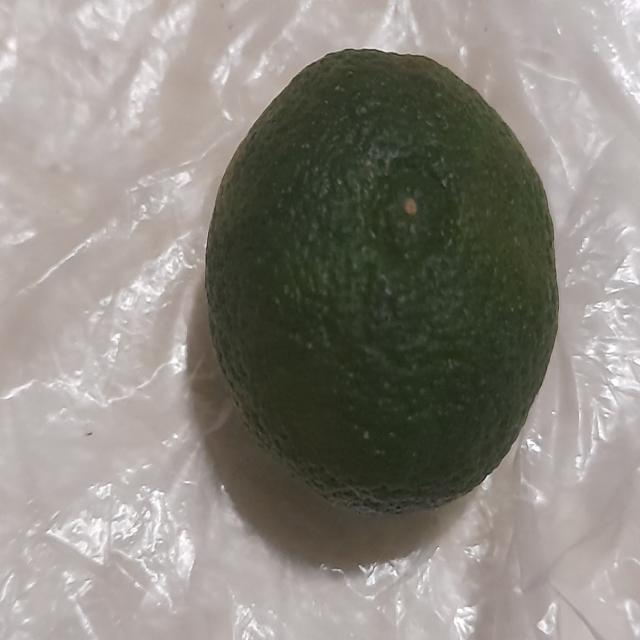heathy: (200, 33, 564, 528)
